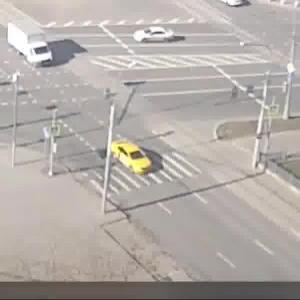car: (6, 20, 55, 69), (109, 138, 159, 173), (132, 28, 177, 46)
